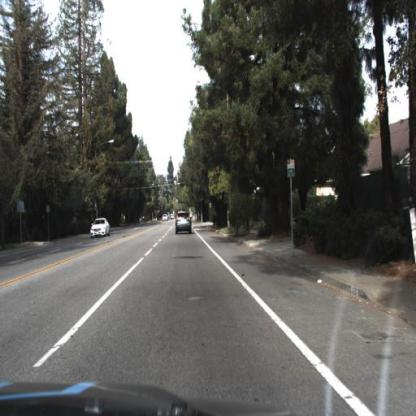car: (85, 212, 113, 243), (174, 207, 195, 240), (90, 219, 112, 239)
